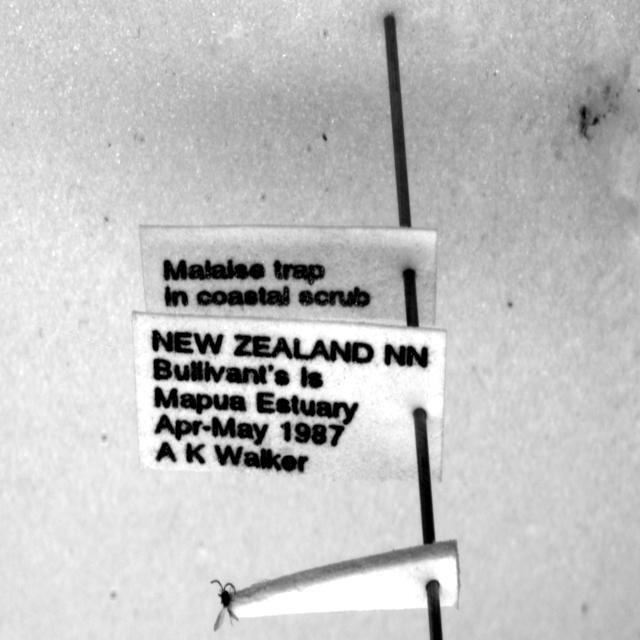typed_label: (132, 313, 446, 480), (140, 225, 436, 324)
